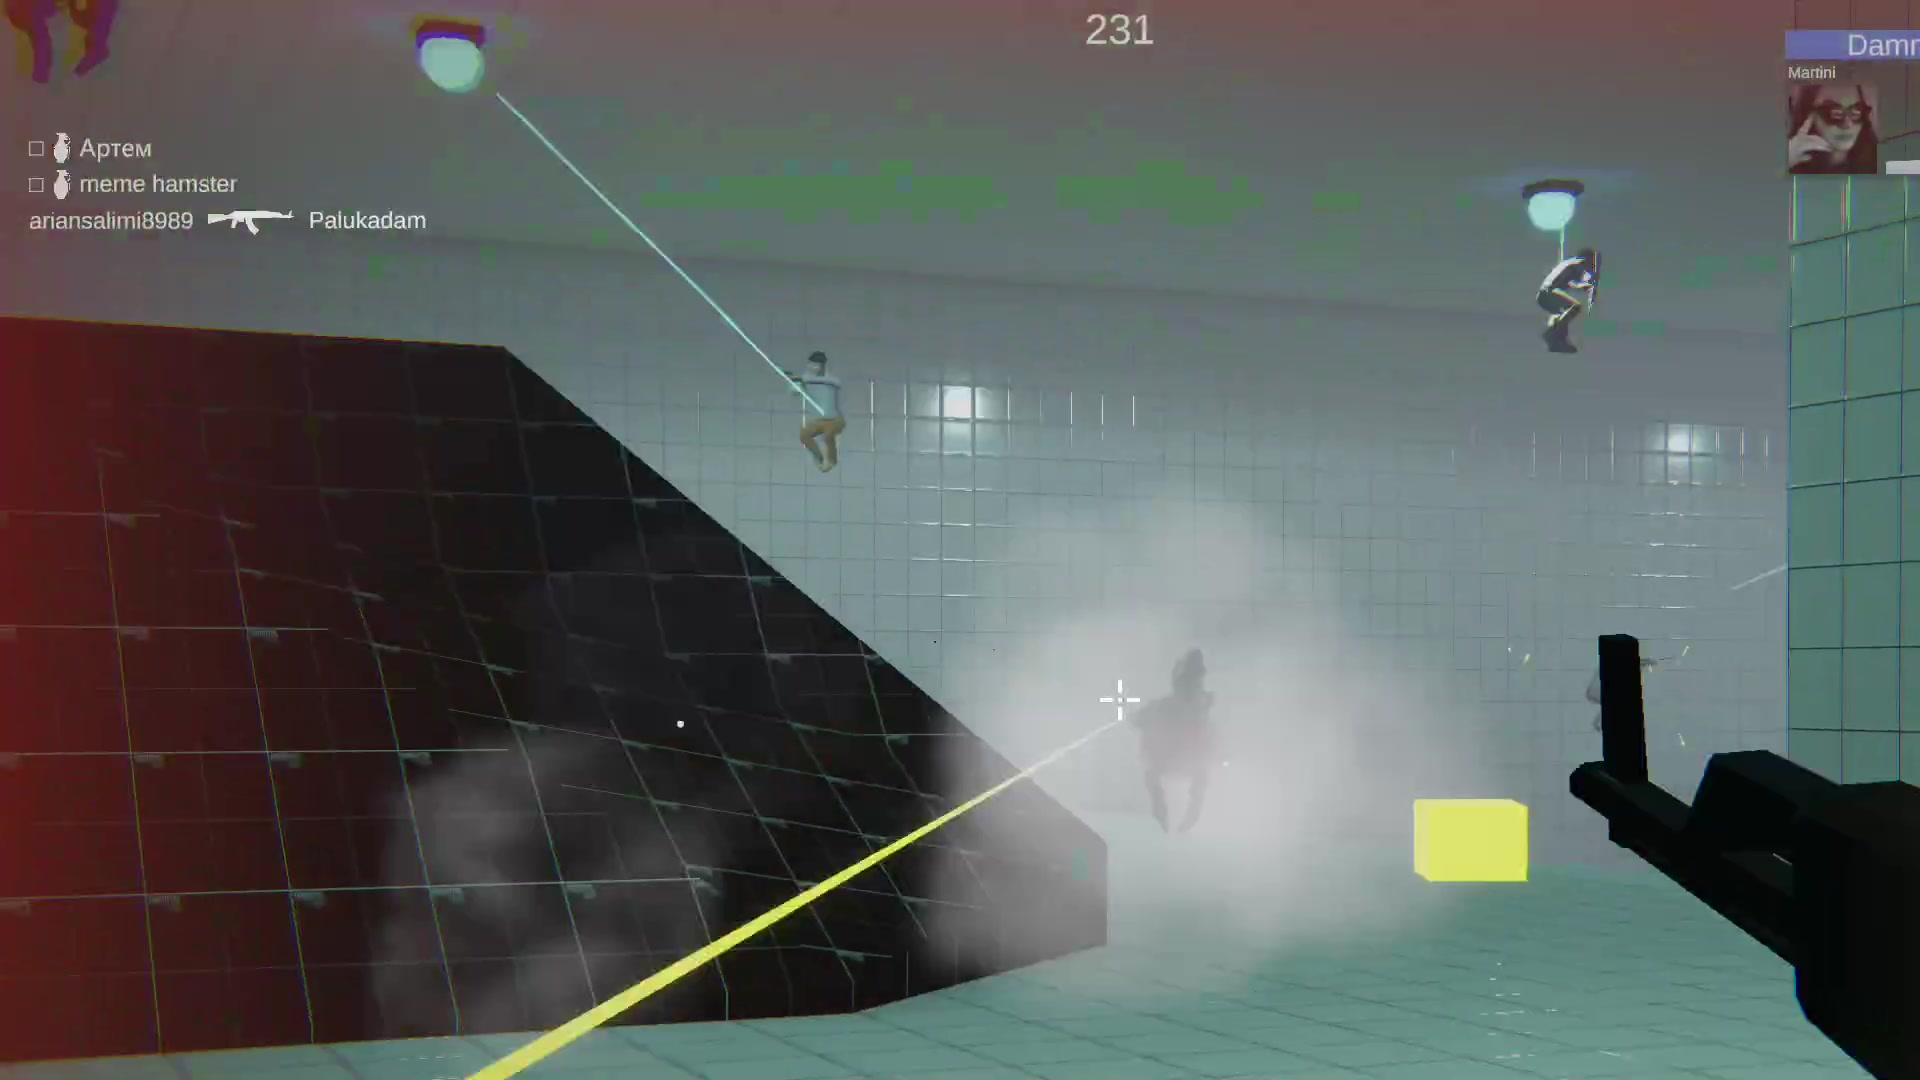human: (797, 338, 860, 493), (1530, 260, 1613, 368)
